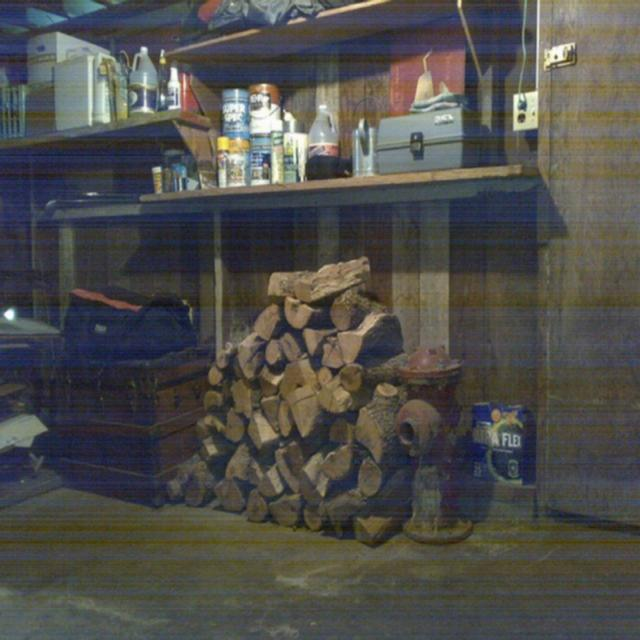fire_hydrant: (392, 339, 471, 541)
